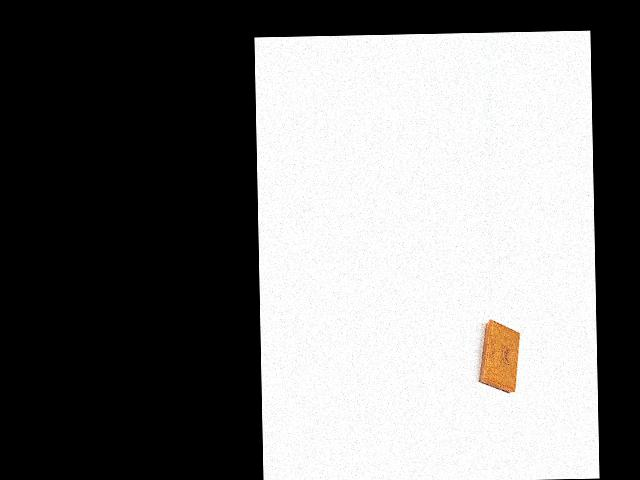chocolate: (471, 319, 523, 395)
